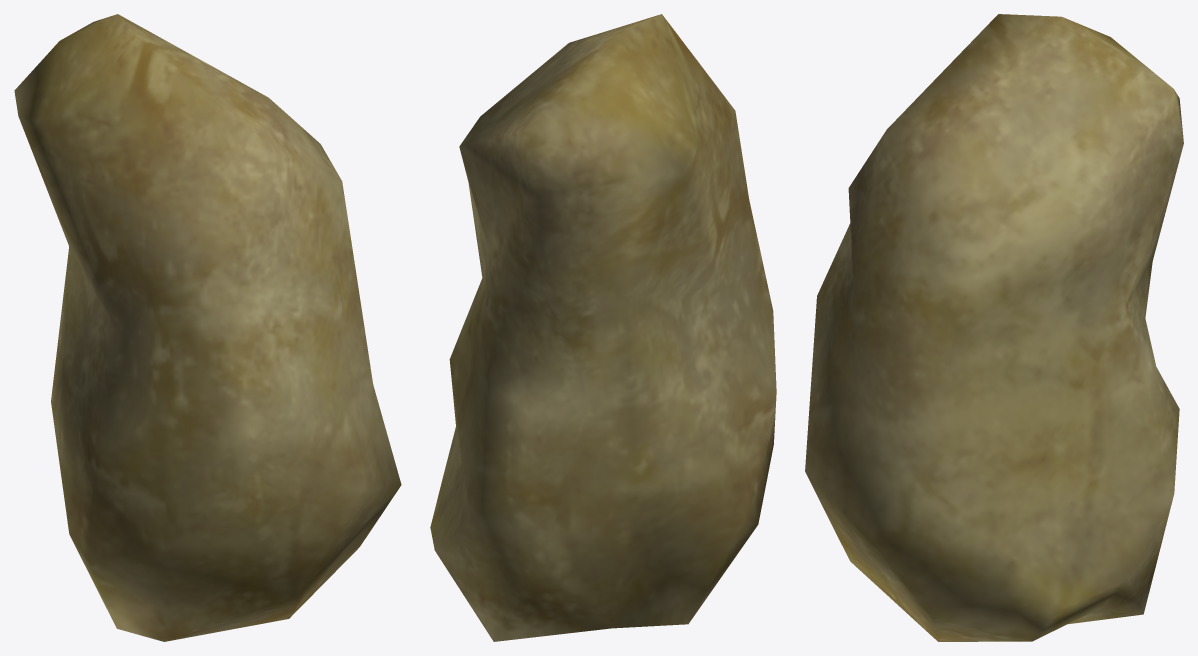
File: SM_Apple_E.fbx
The picture shows the model from 3 angles, left to right: view 1: azimuth 30°, elevation 25°; view 2: azimuth 150°, elevation 25°; view 3: azimuth 270°, elevation 25°; orthographic projection. The views are drawn at different scales.
Visible parts, largest first — view 1: SM_Apple_E_LOD0; view 2: SM_Apple_E_LOD0; view 3: SM_Apple_E_LOD0.
Part boxes in pixels (<box>): SM_Apple_E_LOD0: <box>14,14,401,641</box>; SM_Apple_E_LOD0: <box>430,14,776,641</box>; SM_Apple_E_LOD0: <box>805,14,1183,641</box>.
Size of the model in its own units: 2.5 by 2.98 by 5.
1 material, 1 textured.
